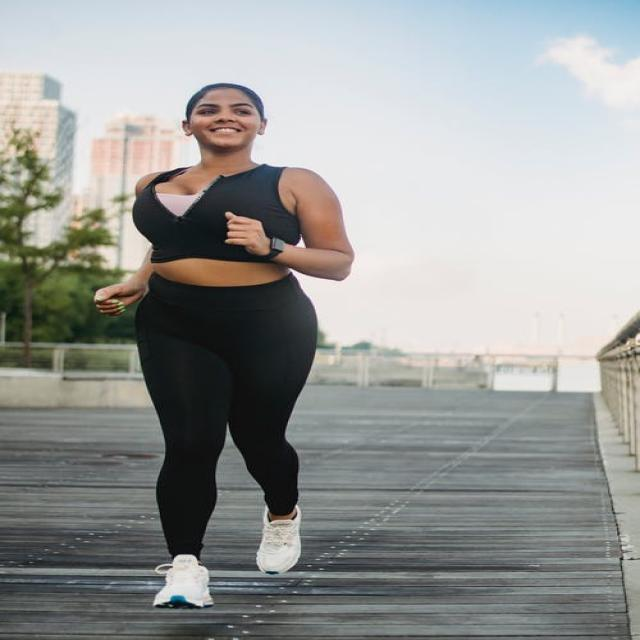running: (89, 81, 366, 614)
